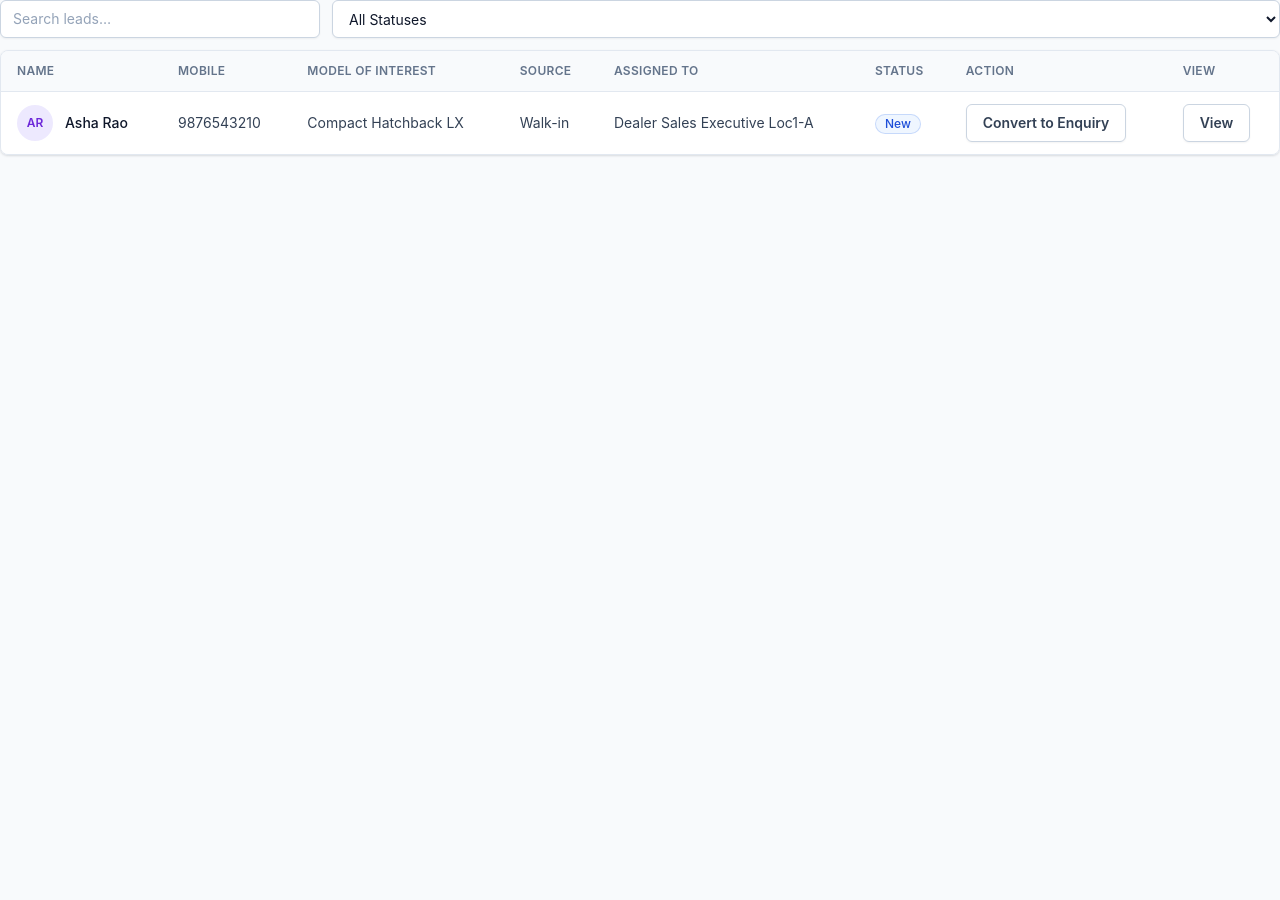
Test case: LeadQueue — Convert to Enquiry slide-over panel (issue #132) › AC1: clicking "Convert to Enquiry" opens a slide-over (not a navigation) with that row's ConvertLeadForm
Click the button "Convert to Enquiry" at (1046, 123), box [966,104,1126,142]
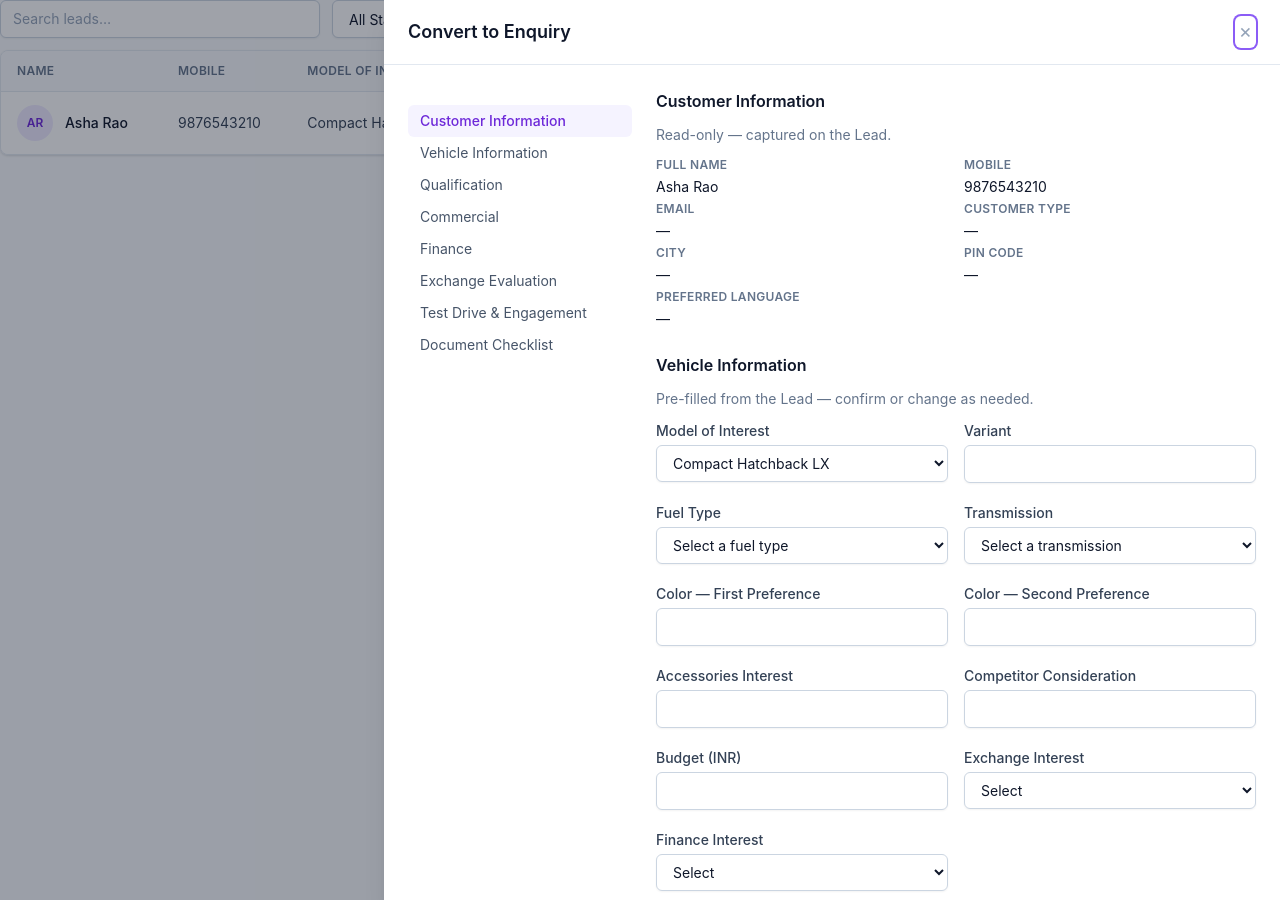
Expected: the table named "my leads" is shown, [1,51,1279,154]
Result: the dialog "Convert to Enquiry" is shown
Result: the field labelled "Budget (INR)" is shown at [656,772,948,810]
